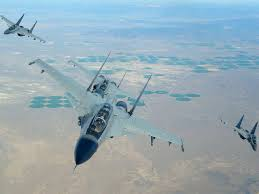maybay_muctieu: (30, 56, 191, 166), (220, 116, 259, 151), (1, 13, 46, 42)
